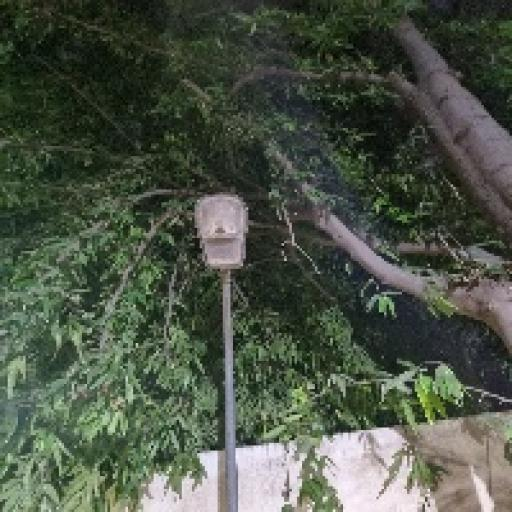Not Working: (179, 180, 263, 288)
